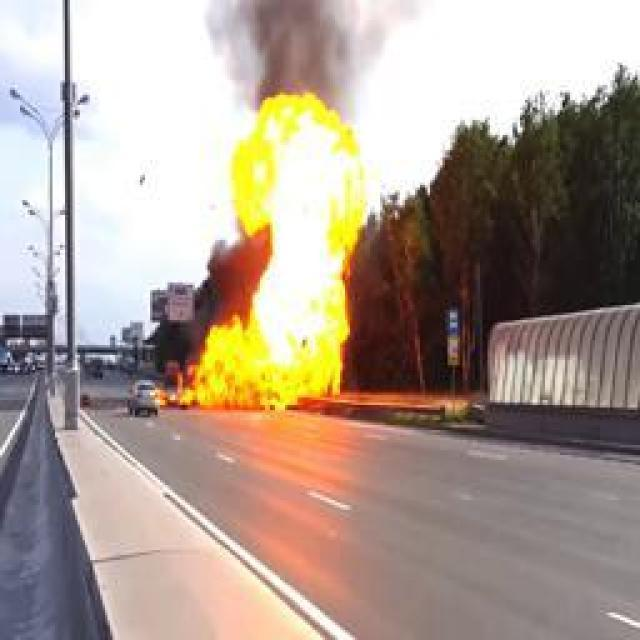Fire: (160, 92, 360, 412)
